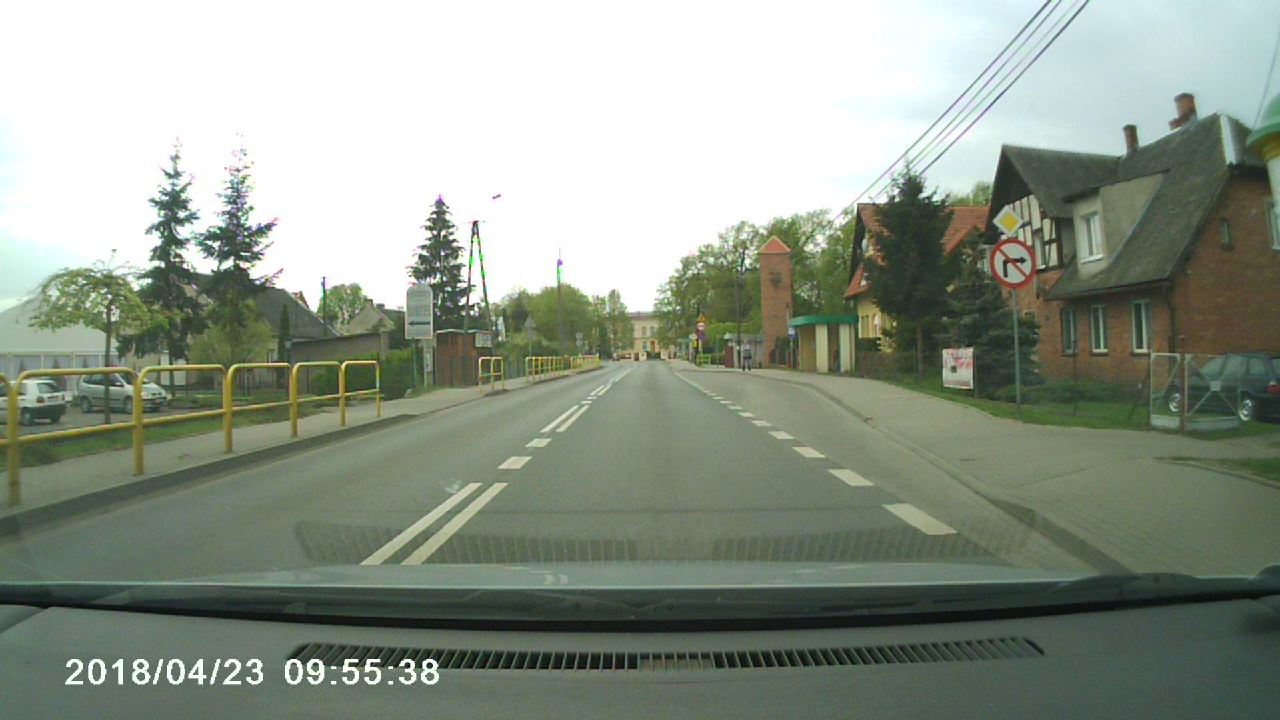B22: (990, 239, 1037, 289)
D1: (993, 205, 1023, 238)
